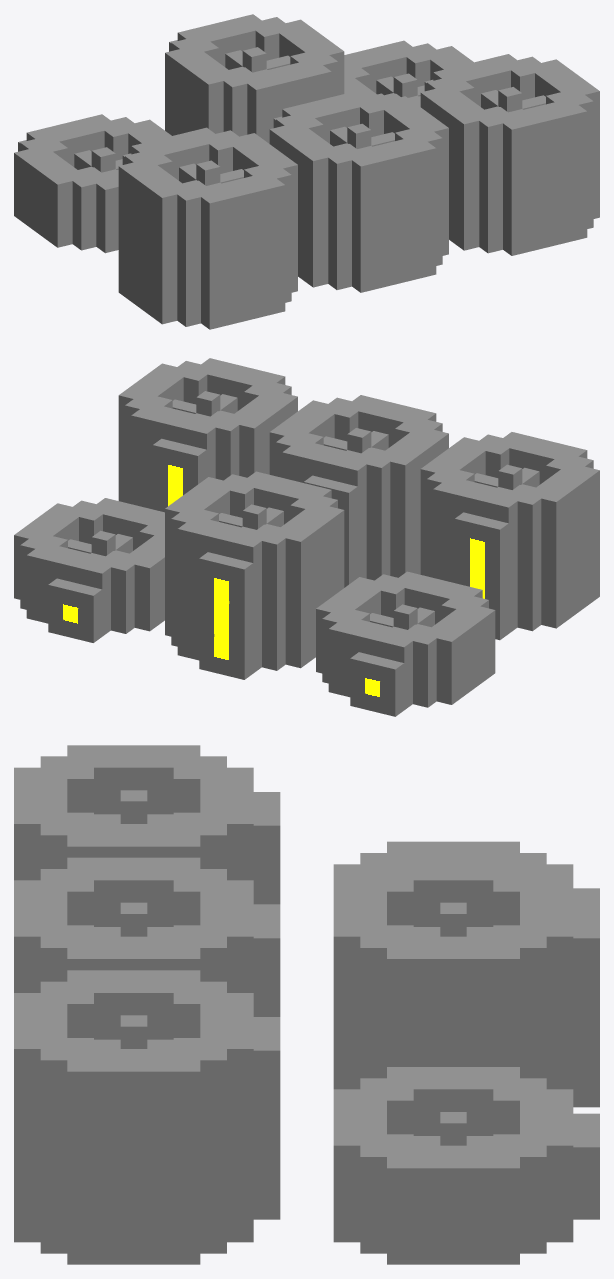
File: wenty_klima.dae
The picture shows the model from 3 angles, top to bottom: view 1: azimuth 30°, elevation 25°; view 2: azimuth 150°, elevation 25°; view 3: azimuth 270°, elevation 25°; orthographic projection. The views are drawn at different scales.
Parts seen in each view (by area): view 1: Content; view 2: Content; view 3: Content.
Boxes of the visible parts, x1,y1,x2,y2 form: Content: (14,14,599,329); Content: (14,358,599,716); Content: (14,745,599,1264).
Size of the model in its own units: 29 by 8 by 22.
Materials: 1 (1 with a texture image).
